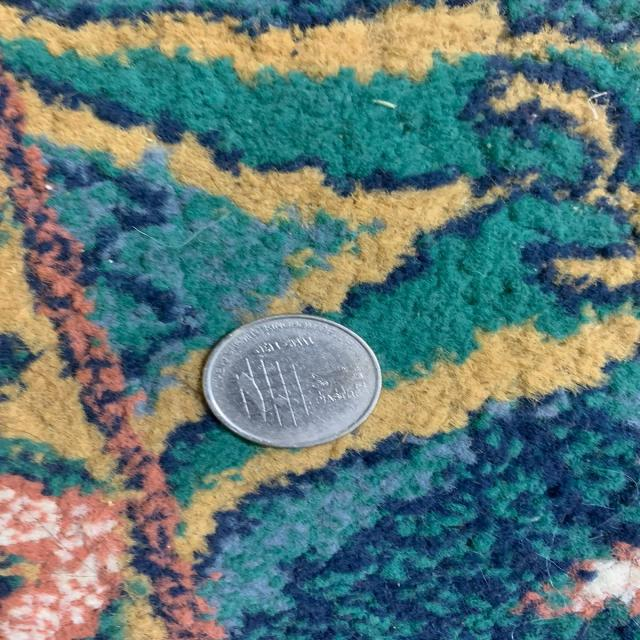10-coins: (200, 315, 382, 450)
